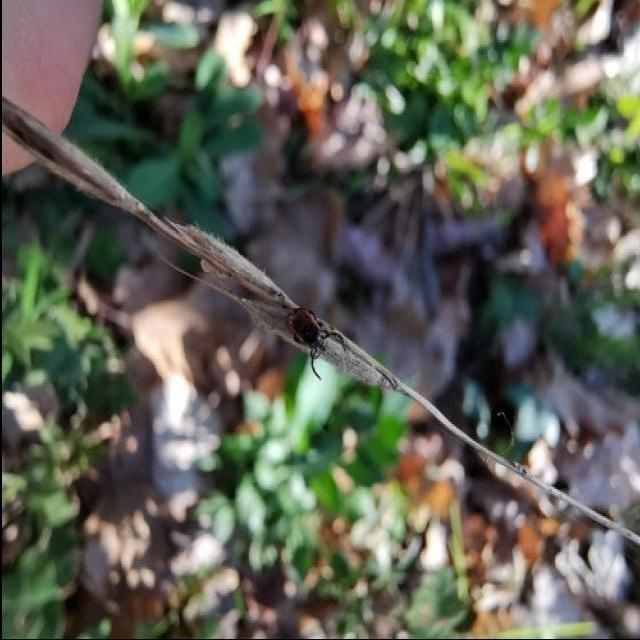Ixodes Ricinus-F: (289, 309, 347, 382)
